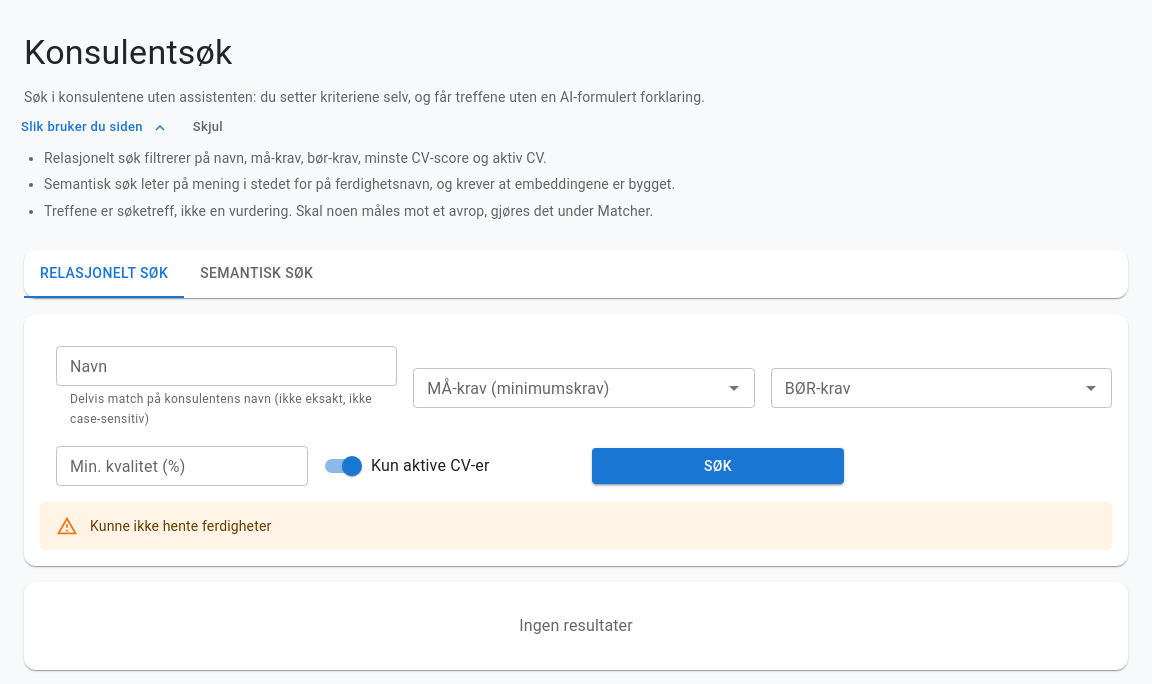
Test case: ConsultantSearchPage › renders both tabs and basic fields
The image size is (1152, 684).
expect the tab "Relasjonelt søk" is shown: met, box [24,250,184,298]
expect the tab "Semantisk søk" is shown: met, box [184,250,329,298]
Trigger relational search
Click the button "Søk".
click(718, 466)  # box [592,448,844,484]
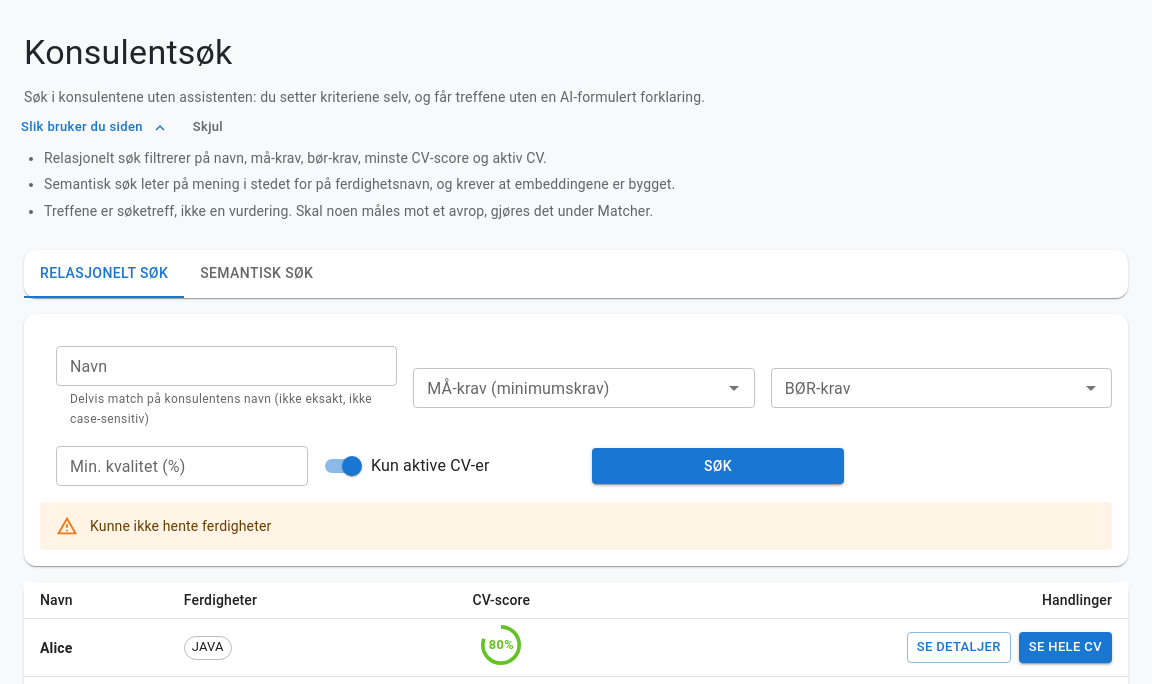
expect the text "Alice" is shown: met, box [24,619,168,677]
Switch to semantic tab
Click the tab "Semantisk søk".
click(257, 274)  # box [184,250,329,298]
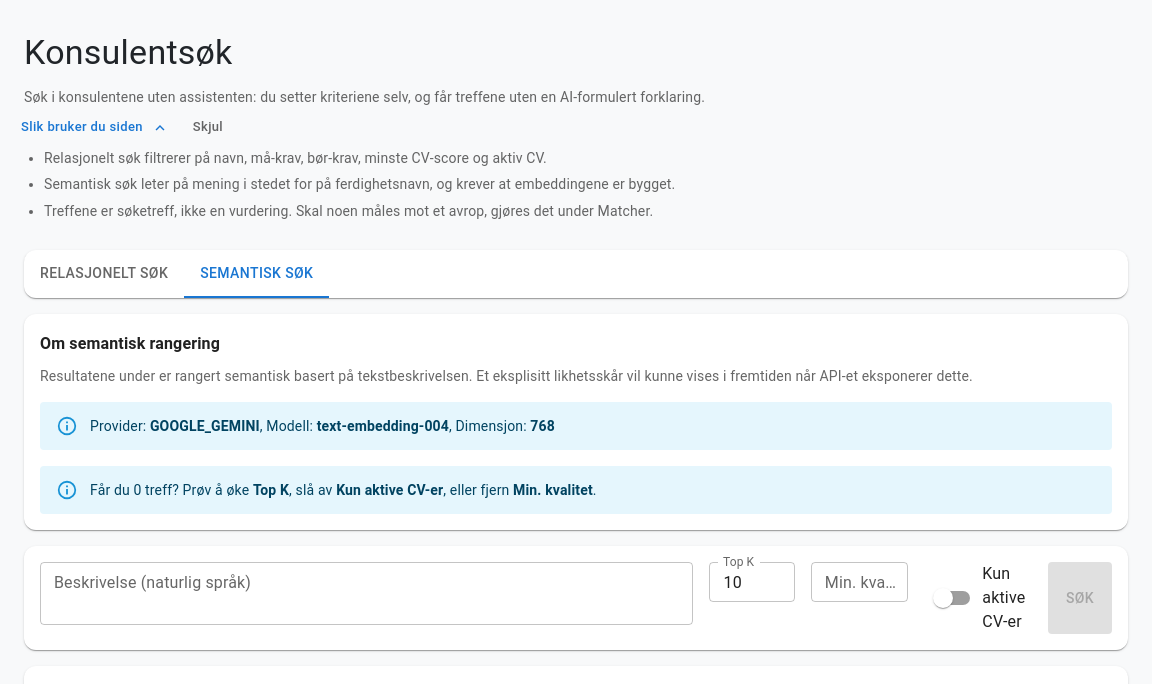
expect the heading "Om semantisk rangering" is shown: met, box [40,334,220,353]
